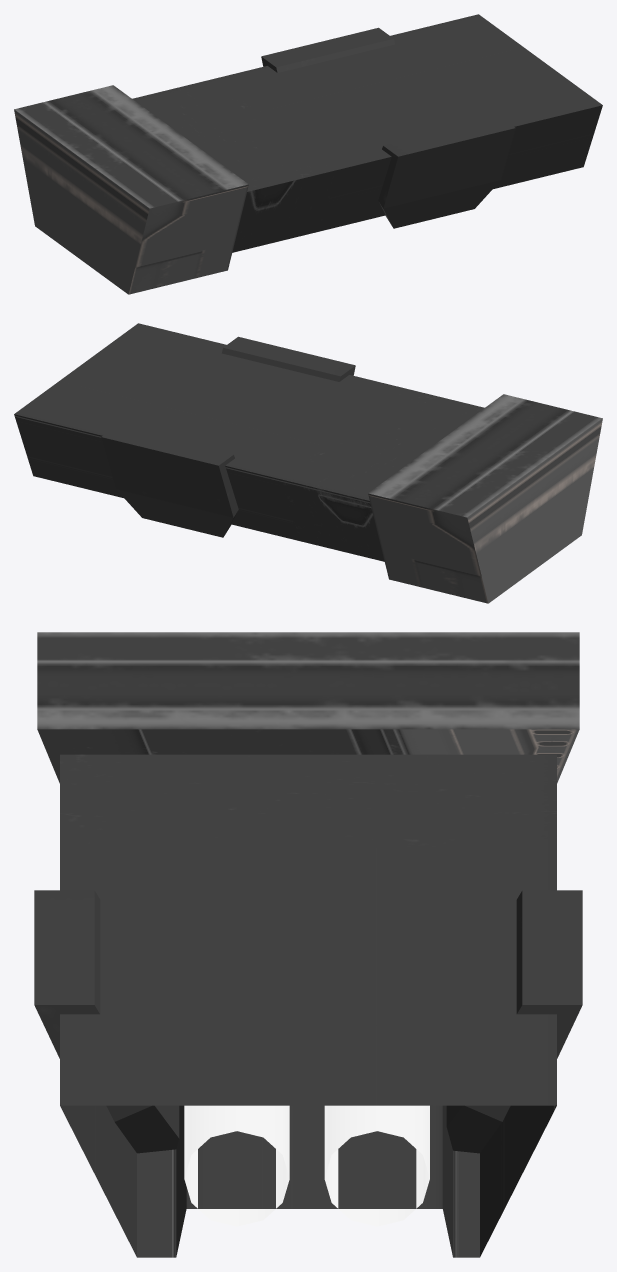
The model's file is quaternius-scifi-light-small.glb.
3 renders of one model, top to bottom at view 1: azimuth 30°, elevation 25°; view 2: azimuth 150°, elevation 25°; view 3: azimuth 270°, elevation 25°, orthographic. The views are drawn at different scales.
Parts seen in each view (by area): view 1: Prop_Light_Small; view 2: Prop_Light_Small; view 3: Prop_Light_Small.
Part boxes in pixels (x1,y1,x2,y2): Prop_Light_Small: [14, 14, 602, 294]; Prop_Light_Small: [14, 323, 602, 603]; Prop_Light_Small: [34, 632, 582, 1257].
Size of the model in its own units: 0.8609 by 0.1819 by 0.4453.
2 materials, 1 textured.
